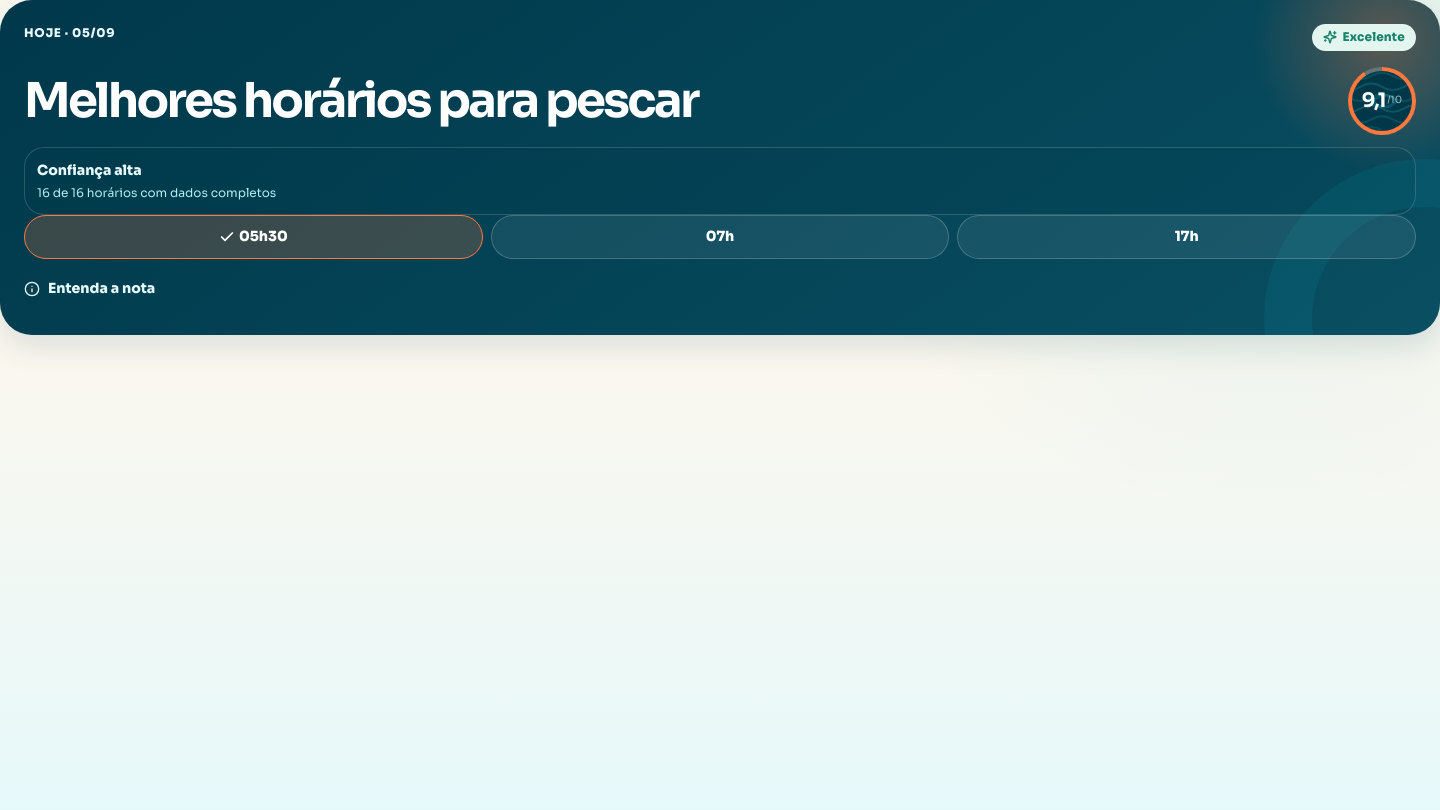
Test: ForecastRecommendation › detalha os indicadores ao abrir Entenda a nota
Click the heading "Entenda a nota".
click(90, 288)  # box [24,279,155,297]
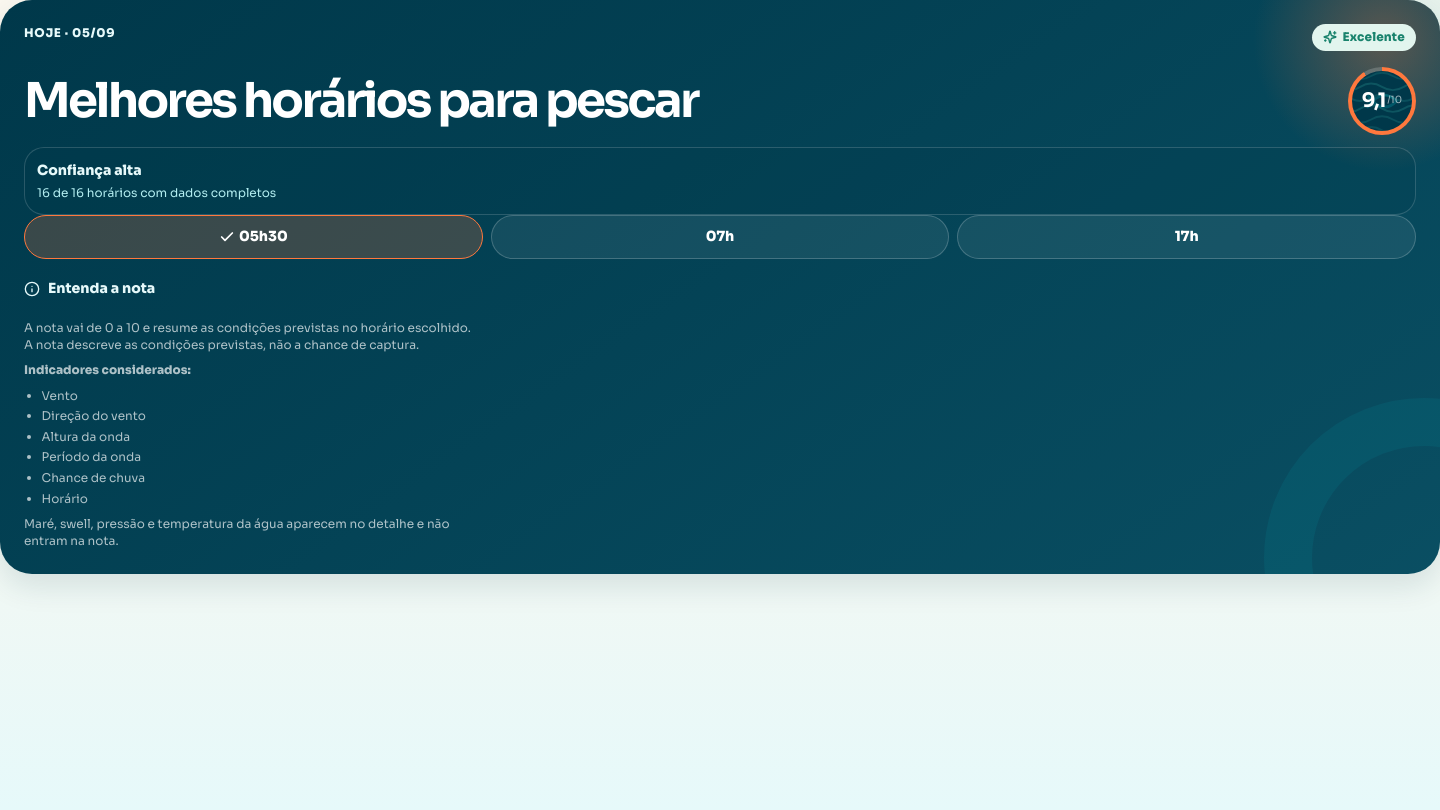
Result: the text "condições previstas no horário" is shown at [24,320,471,335]
Result: the list item "Vento" is shown at [42,388,78,403]
Result: the text "não entram na nota" is shown at [24,516,450,548]
